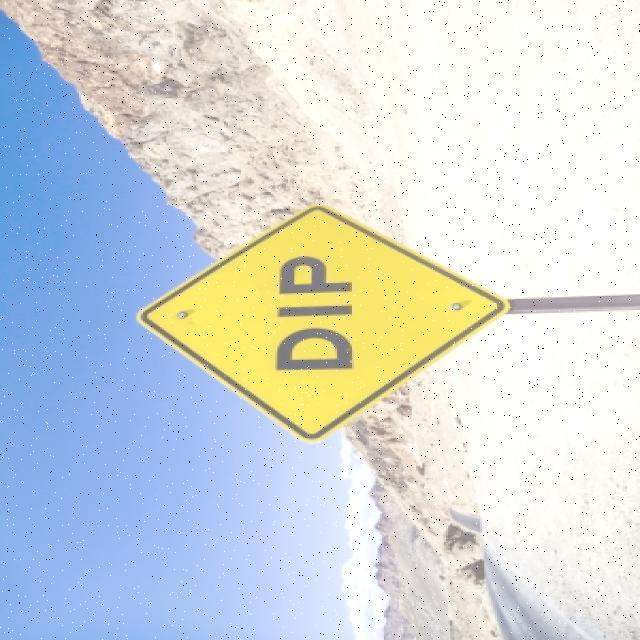Traffic sign: (135, 198, 510, 447)
